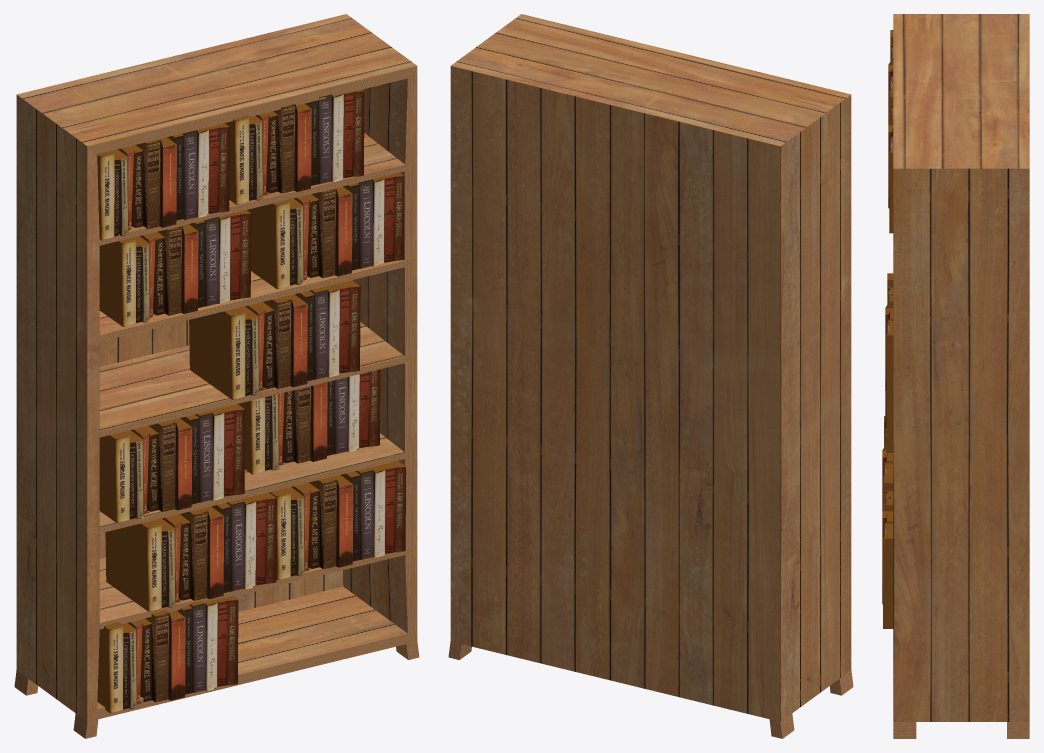
The model's file is bookshelf.glb.
3 renders of one model, left to right at view 1: azimuth 30°, elevation 25°; view 2: azimuth 150°, elevation 25°; view 3: azimuth 270°, elevation 25°, orthographic. The views are drawn at different scales.
Parts seen in each view (by area): view 1: Cube, books.006, books.010, books.004, books.008, books.005, books.007, books.009, books, books.002, books.003; view 2: Cube; view 3: Cube, books.009, books.006, books, books.010, books.002, books.008.
Part boxes in pixels (<box>): Cube: <box>14,14,419,738</box>; books.006: <box>189,280,360,399</box>; books.010: <box>105,492,276,611</box>; books.004: <box>247,172,403,289</box>; books.008: <box>99,404,244,522</box>; books.005: <box>99,210,251,326</box>; books.007: <box>97,596,238,713</box>; books.009: <box>269,461,405,579</box>; books: <box>225,89,364,204</box>; books.002: <box>97,123,229,240</box>; books.003: <box>238,369,380,474</box>; Cube: <box>448,14,853,738</box>; Cube: <box>893,14,1029,738</box>; books.009: <box>882,476,893,619</box>; books.006: <box>885,273,893,415</box>; books: <box>888,90,893,233</box>; books.010: <box>882,416,893,510</box>; books.002: <box>888,30,893,124</box>; books.008: <box>885,391,893,452</box>.
Bounding box in the file's own units: 1.22 × 2.06 × 0.4837.
Materials: 11 (11 with a texture image).
